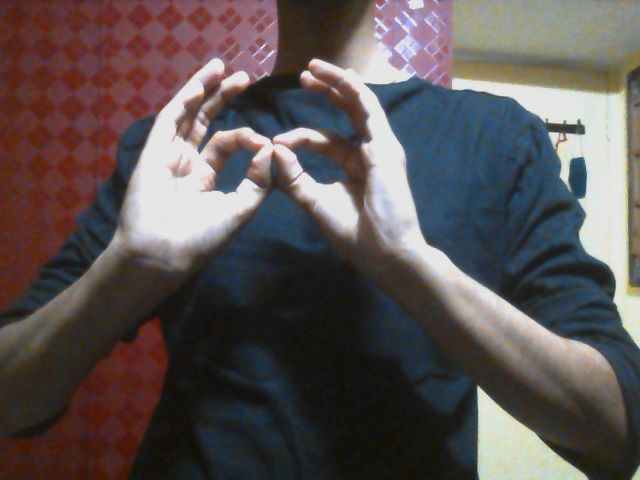B: (118, 57, 428, 311)
